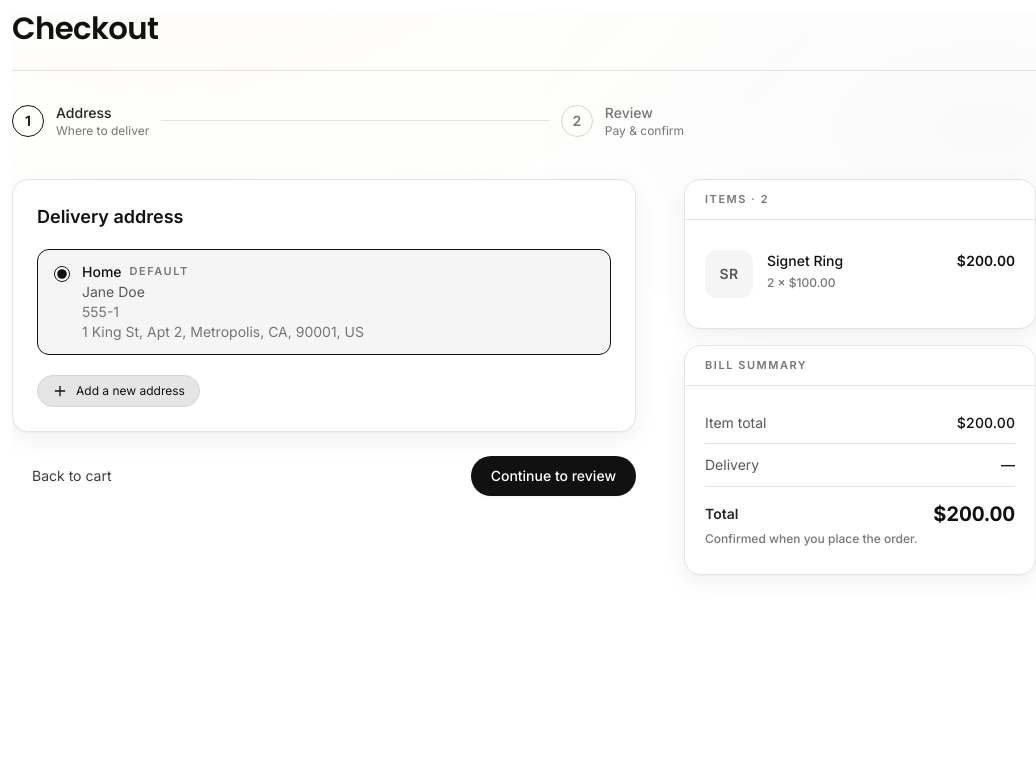
Test: Checkout (WP-2.5) › payment methods reflect the store flags — COD only
Expected: the heading "Delivery address" is shown, [37, 206, 184, 227]
Click the radio button labelled "Home": coordinates (62, 274) [54, 266, 70, 282]
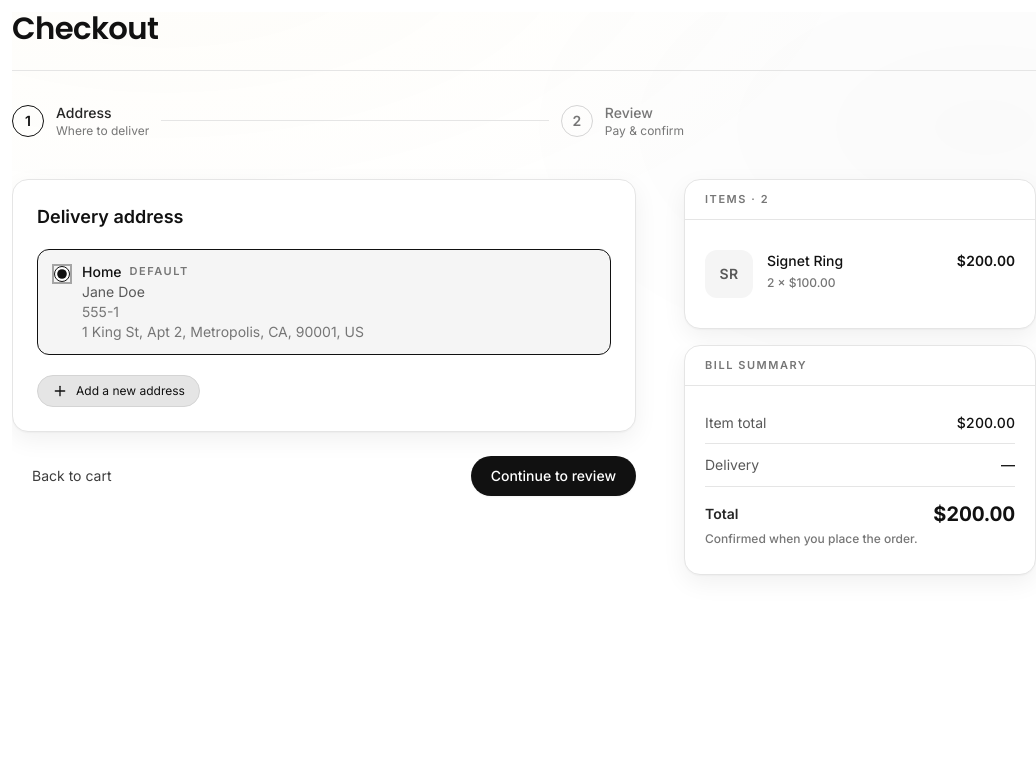
Click the button "Continue to review": coordinates (553, 476) [471, 456, 636, 496]
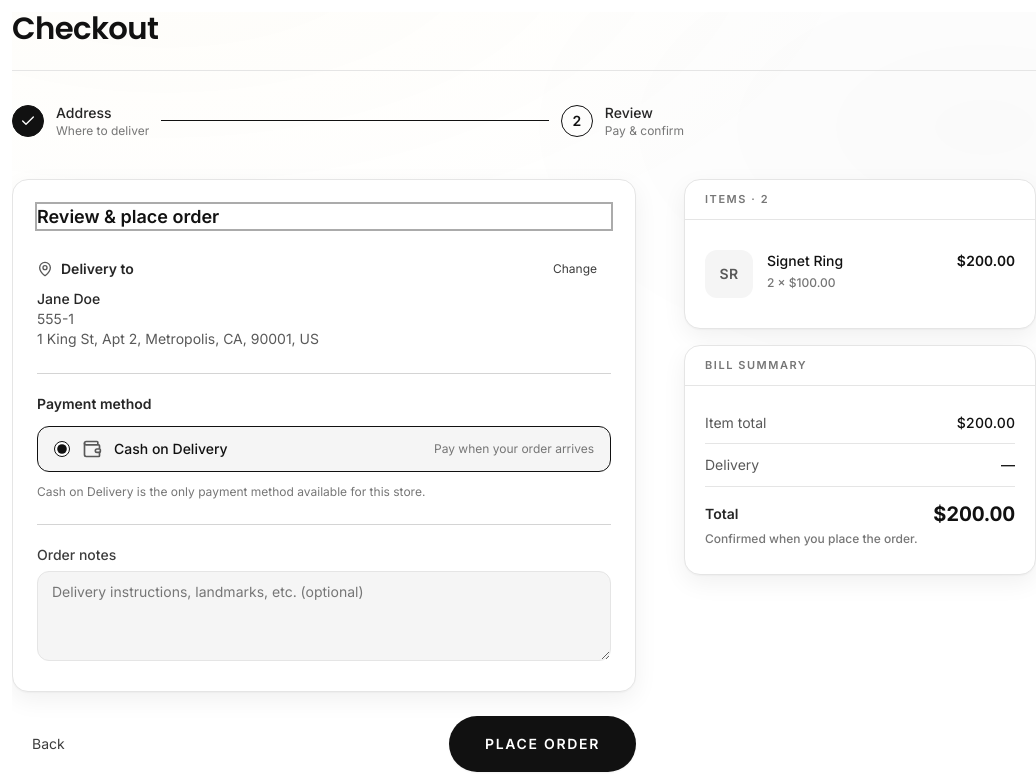
Expected: the heading "Payment method" is shown, [37, 395, 152, 412]
Expected: the text "Cash on Delivery" is shown, [114, 439, 228, 459]
Expected: the text "is the only payment method available" is shown, [133, 484, 425, 499]
